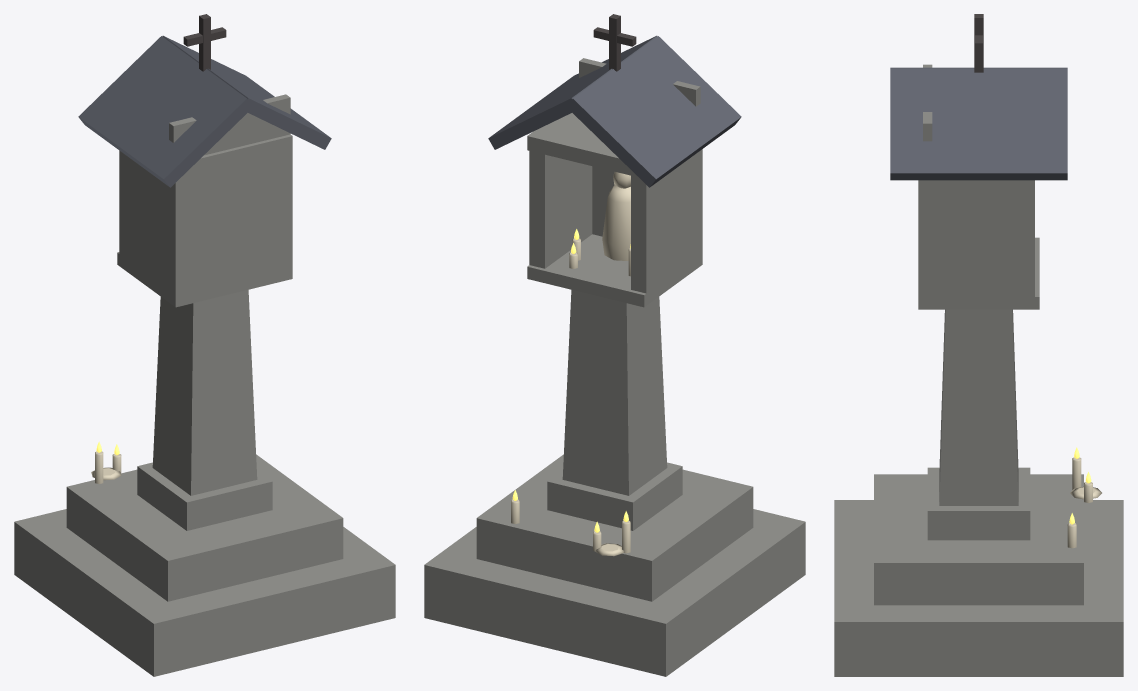
The model's file is wayside_shrine.glb.
3 views of the same model, side by side, from view 1: azimuth 30°, elevation 25°; view 2: azimuth 150°, elevation 25°; view 3: azimuth 270°, elevation 25° (orthographic). The views are drawn at different scales.
Parts seen in each view (by area): view 1: wayside_shrine; view 2: wayside_shrine; view 3: wayside_shrine.
Part boxes in pixels (left/top/right/bottom): wayside_shrine: left=14, top=14, right=395, bottom=676; wayside_shrine: left=424, top=14, right=805, bottom=676; wayside_shrine: left=834, top=14, right=1123, bottom=676.
Bounding box in the file's own units: 1.24 × 2.84 × 1.24.
